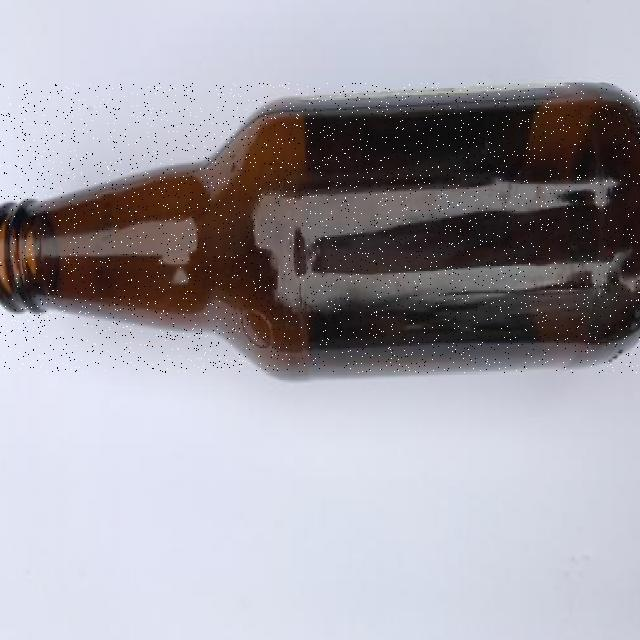glass: (0, 84, 640, 373)
